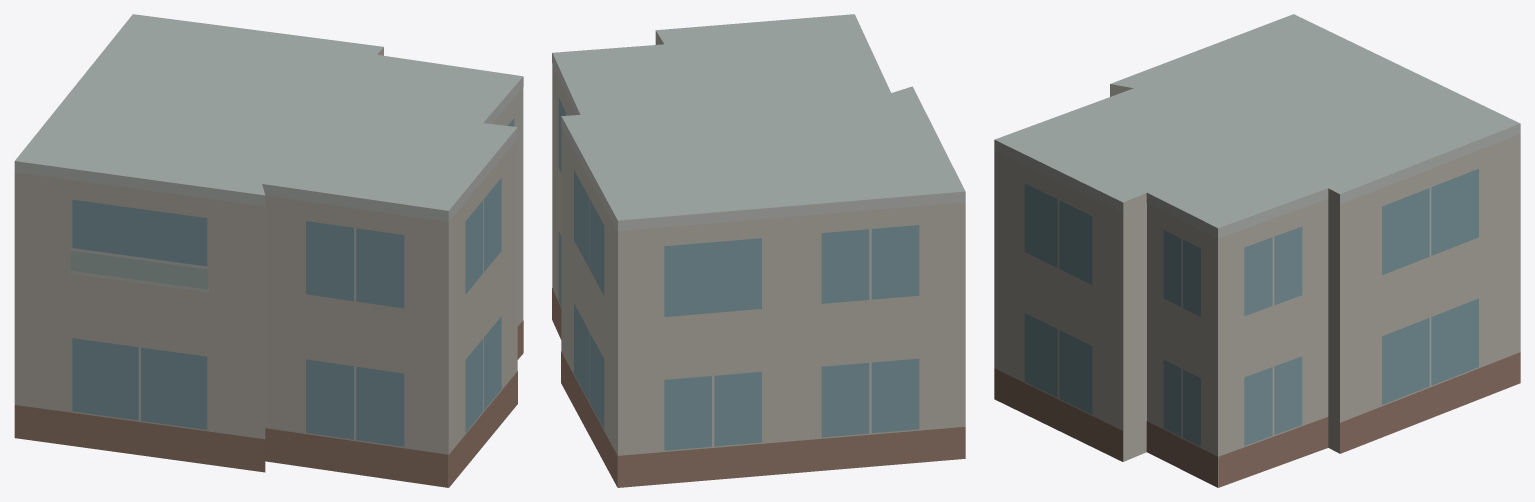
File: survey-upis-32888204.glb
3 renders of one model, left to right at view 1: azimuth 30°, elevation 25°; view 2: azimuth 150°, elevation 25°; view 3: azimuth 270°, elevation 25°, orthographic. The views are drawn at different scales.
Visible parts, largest first — view 1: survey-upis-32888204.tmp; view 2: survey-upis-32888204.tmp; view 3: survey-upis-32888204.tmp.
Boxes of the visible parts, x1,y1,x2,y2 form: survey-upis-32888204.tmp: (14, 14, 523, 487); survey-upis-32888204.tmp: (552, 14, 965, 487); survey-upis-32888204.tmp: (994, 14, 1520, 487).
Bounding box in the file's own units: 10.81 × 6.1 × 11.22.
